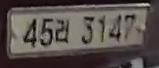1: (96, 14, 107, 45)
3: (77, 14, 95, 46)
4: (21, 17, 40, 50), (108, 13, 123, 42)
5: (40, 17, 55, 47)
7: (122, 13, 136, 41)
리: (55, 18, 71, 44)
